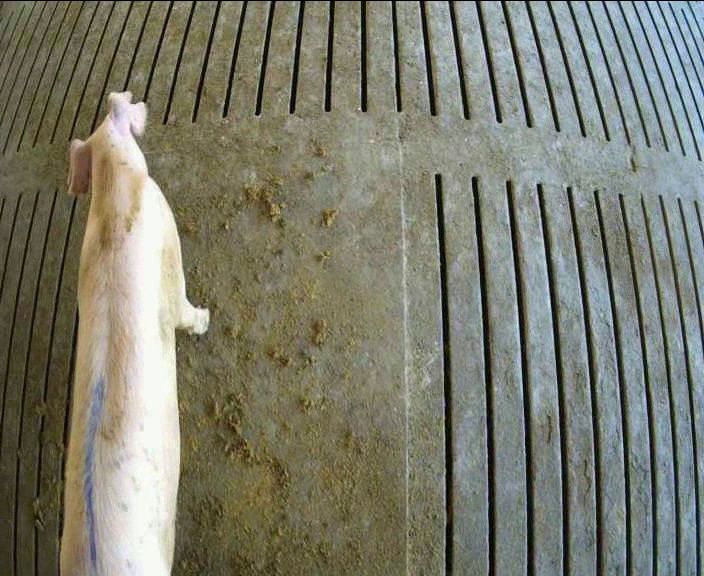pig: (61, 92, 208, 574)
